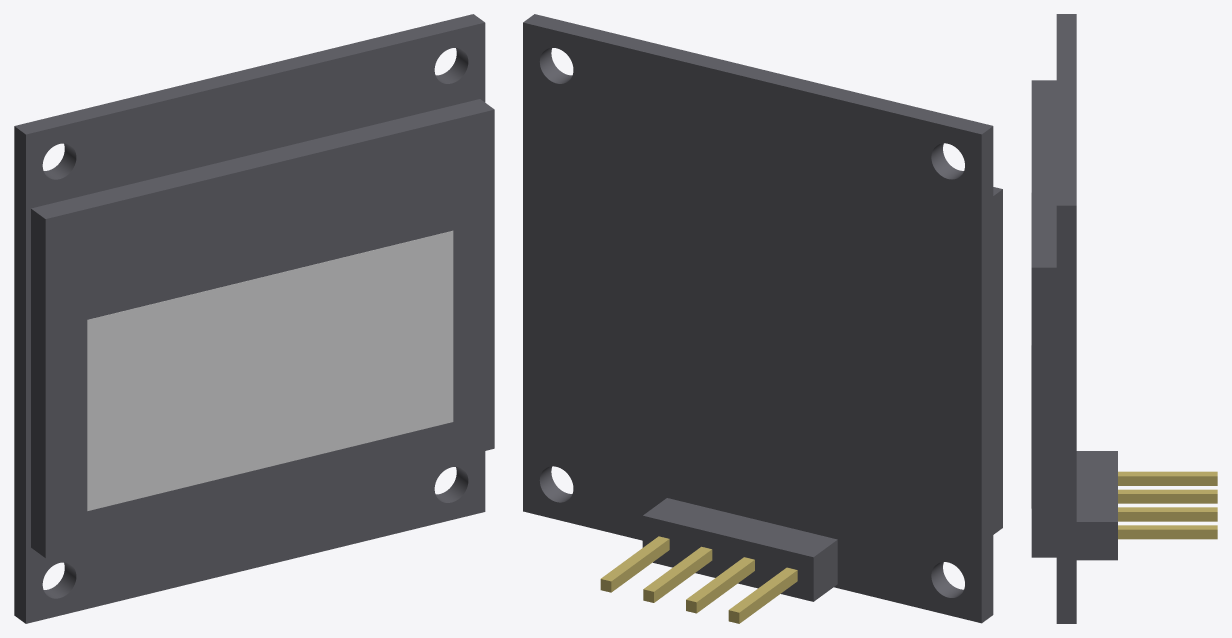
Rendered from ssd1306_module_096.glb.
3 views of the same model, side by side, from view 1: azimuth 30°, elevation 25°; view 2: azimuth 150°, elevation 25°; view 3: azimuth 270°, elevation 25° (orthographic). The views are drawn at different scales.
Parts seen in each view (by area): view 1: extra, housing; view 2: extra, pins; view 3: extra, pins, housing.
Boxes of the visible parts, bbox=[...] form: extra: bbox=[14, 14, 494, 623]; housing: bbox=[87, 230, 453, 510]; extra: bbox=[523, 14, 1002, 623]; pins: bbox=[600, 536, 797, 623]; extra: bbox=[1031, 14, 1117, 623]; pins: bbox=[1118, 471, 1217, 539]; housing: bbox=[1031, 193, 1031, 508].
Bounding box in the file's own units: 27.3 × 27.8 × 11.22.
